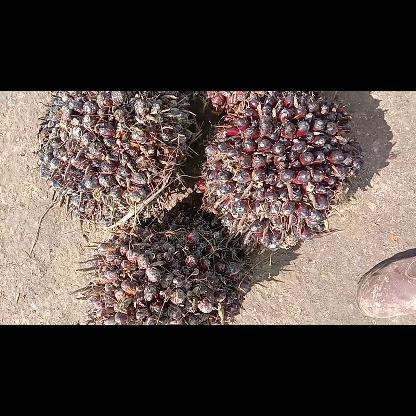Kurang masak: (203, 91, 365, 251), (37, 90, 199, 222), (80, 205, 254, 323)
